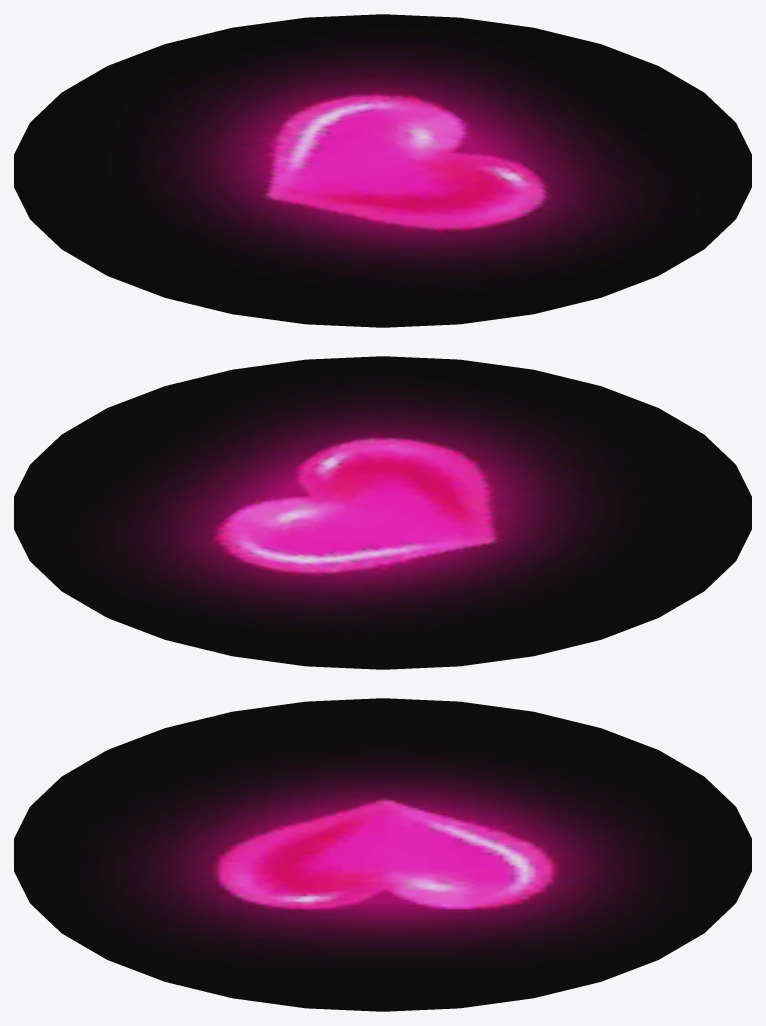
File: 0298_guangquan_M.glb
3 renders of one model, top to bottom at view 1: azimuth 30°, elevation 25°; view 2: azimuth 150°, elevation 25°; view 3: azimuth 270°, elevation 25°, orthographic.
Bounding box in the file's own units: 2.2 × 0 × 2.19.
1 material, 1 textured.
